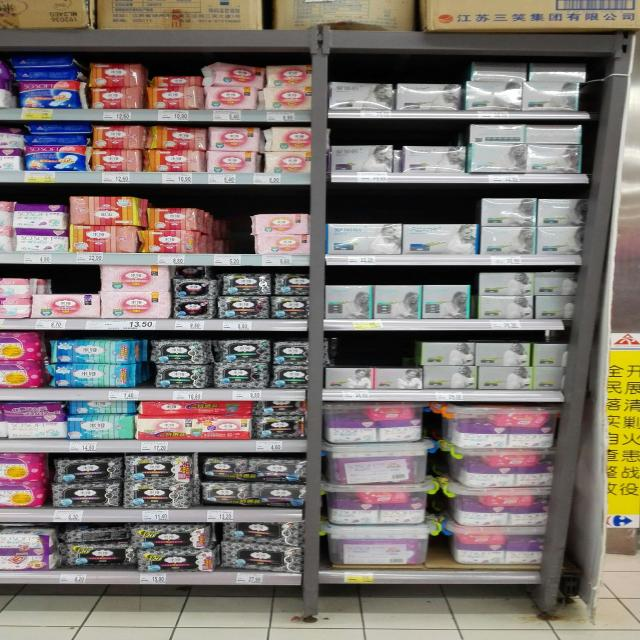empty: (223, 196, 253, 259)
